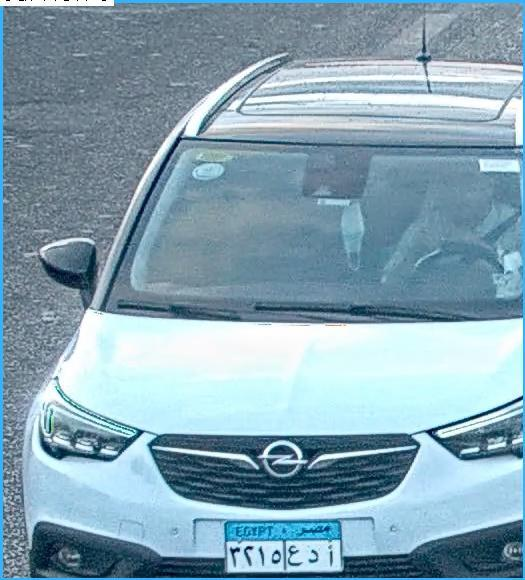windshield: (90, 128, 525, 325)
